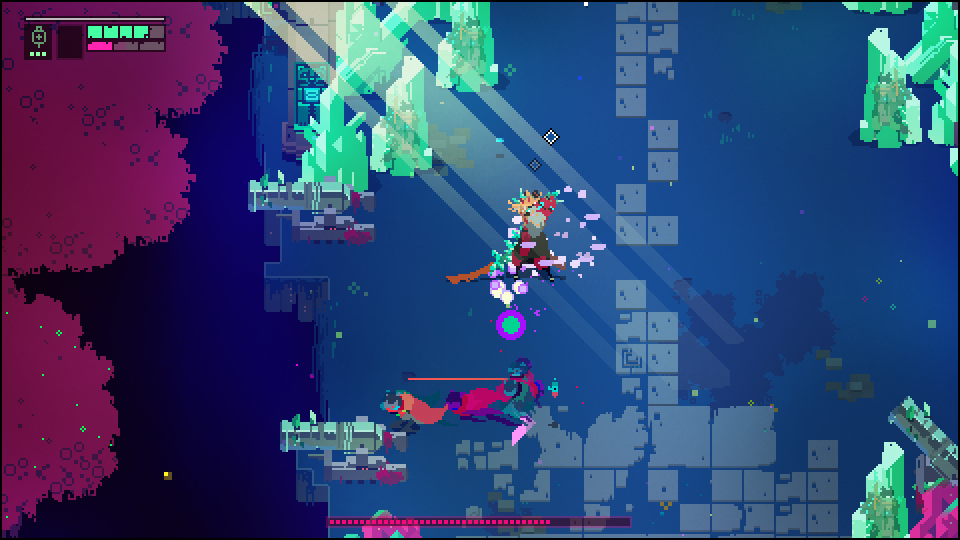hanged_man: (473, 184, 571, 284)
hanged_shot: (493, 309, 526, 344)
player: (381, 388, 450, 433)
